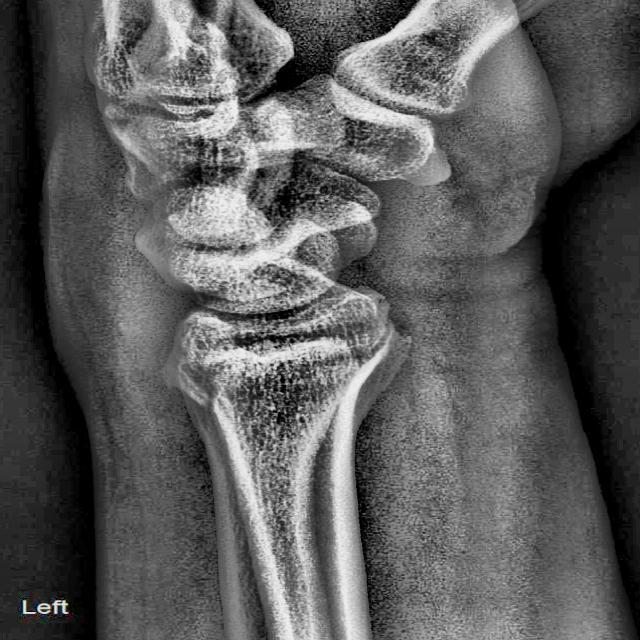fracture: (179, 364, 216, 408)
